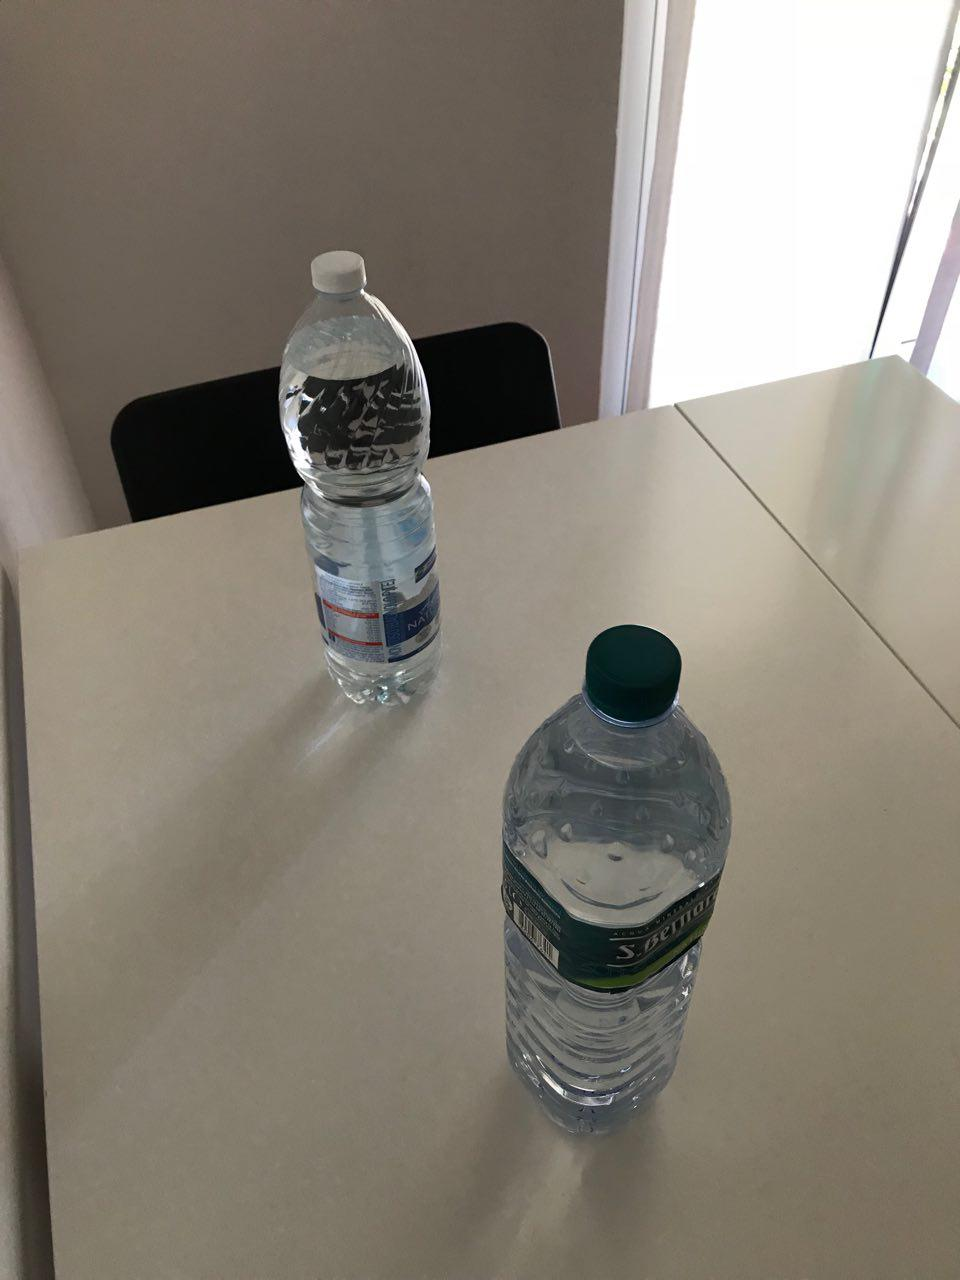san_bernardo: (500, 624, 733, 1140)
